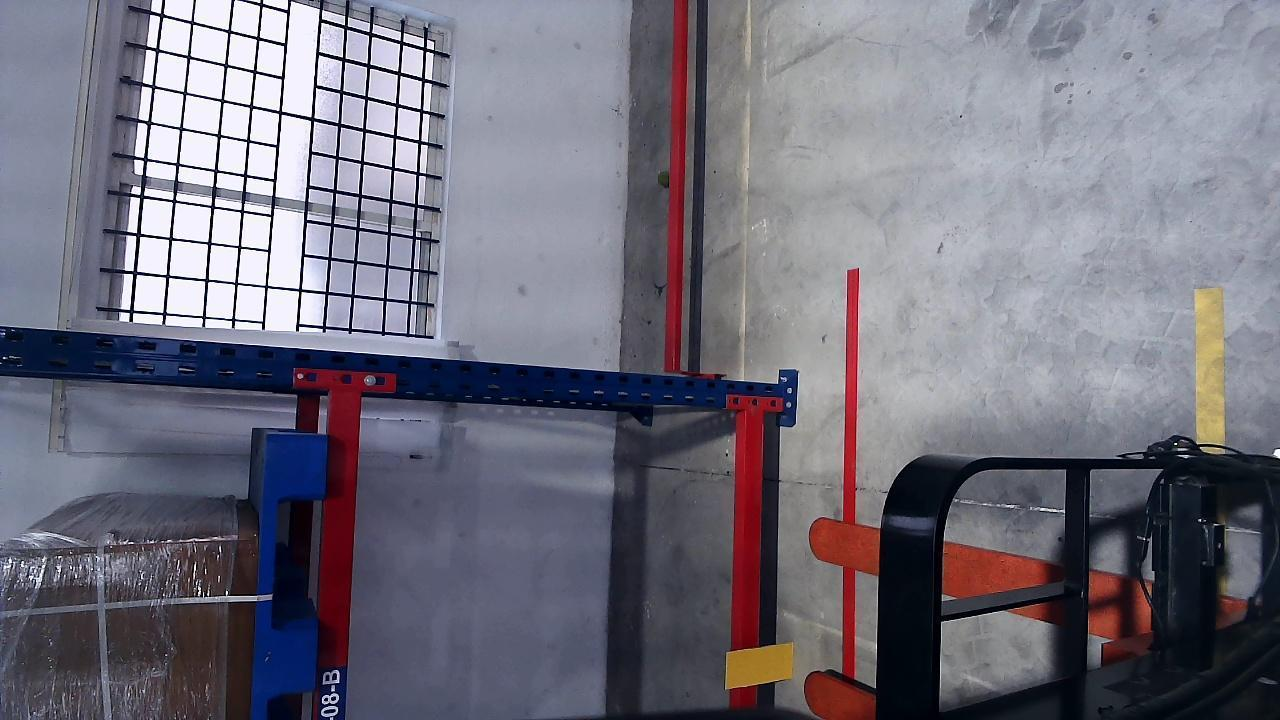red_line: (842, 268, 862, 518)
yellow_line: (1194, 287, 1225, 446)
